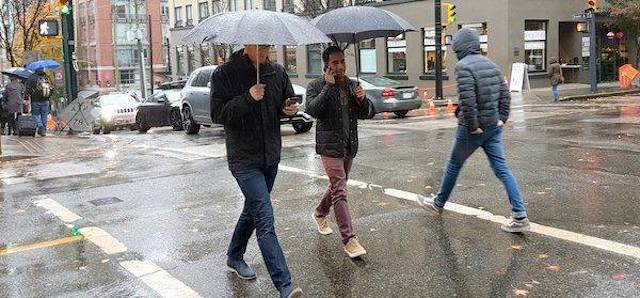pedestrian: (198, 26, 311, 297), (417, 24, 536, 239), (300, 37, 381, 260)
